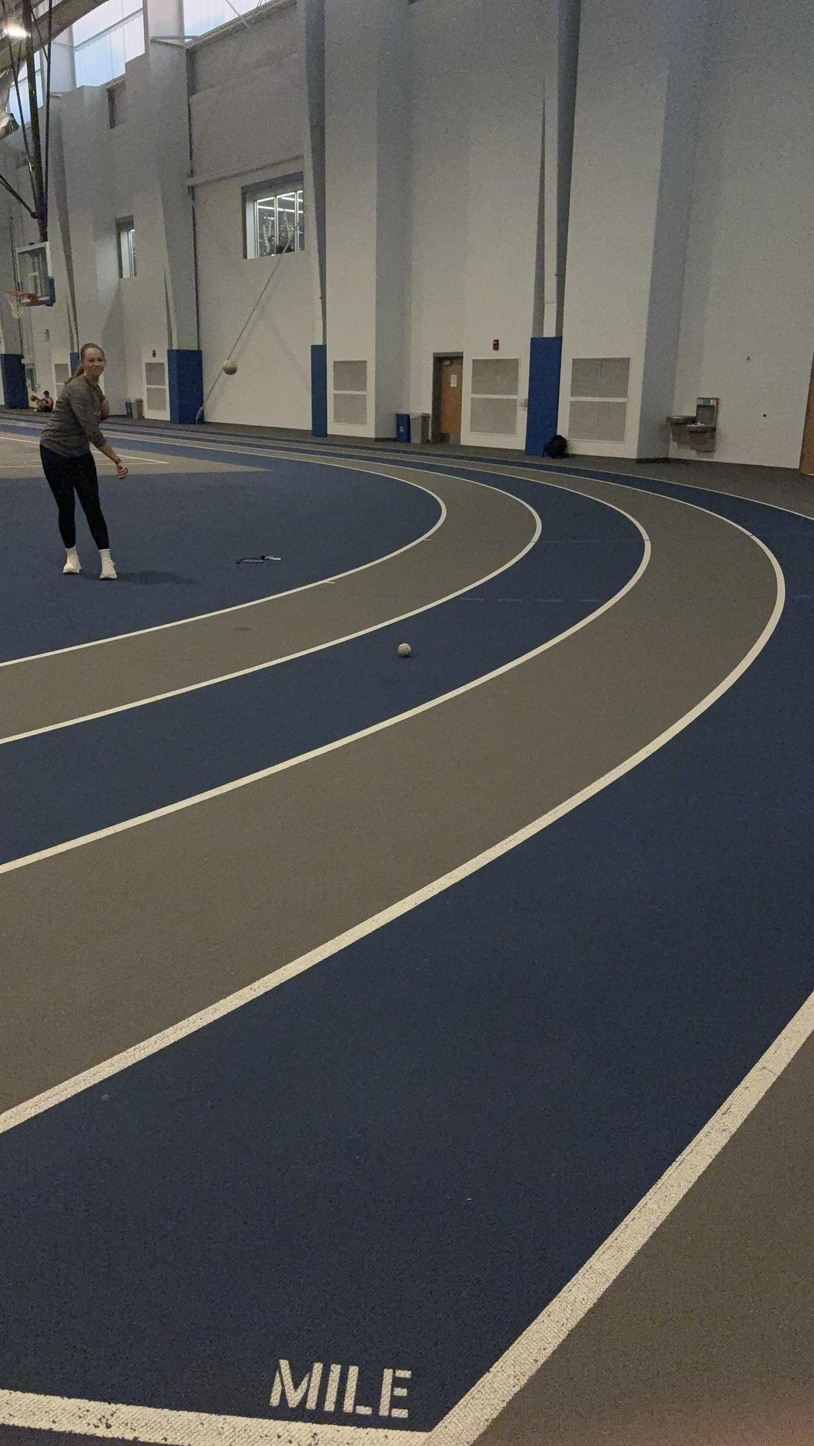Baseball: (223, 357, 239, 377), (397, 639, 411, 658)
